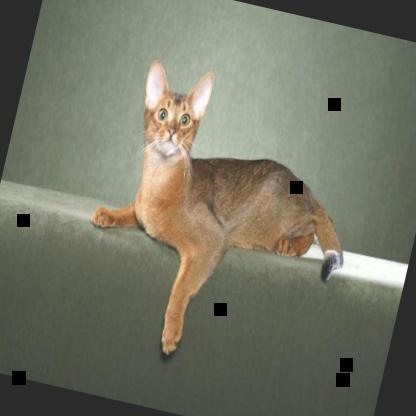cat: (67, 52, 378, 388)
